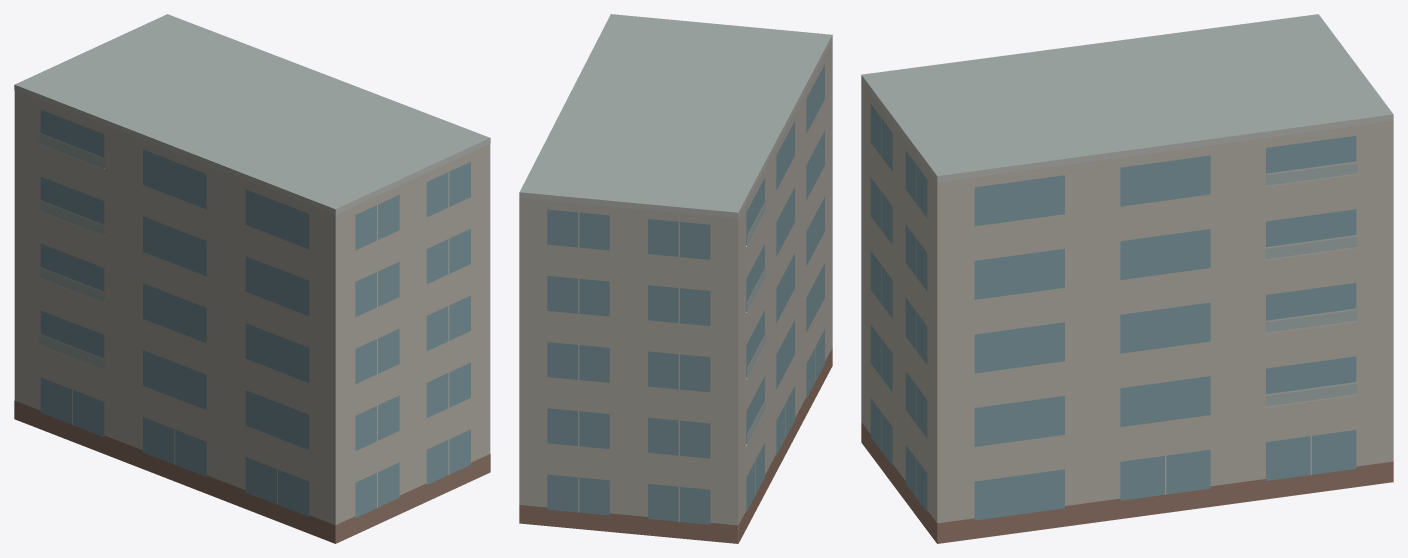
The model's file is survey-upis-32609044.glb.
3 renders of one model, left to right at view 1: azimuth 30°, elevation 25°; view 2: azimuth 150°, elevation 25°; view 3: azimuth 270°, elevation 25°, orthographic. The views are drawn at different scales.
Parts seen in each view (by area): view 1: survey-upis-32609044.tmp; view 2: survey-upis-32609044.tmp; view 3: survey-upis-32609044.tmp.
Part boxes in pixels (x1,y1,x2,y2): survey-upis-32609044.tmp: (14, 14, 490, 543); survey-upis-32609044.tmp: (519, 14, 832, 543); survey-upis-32609044.tmp: (861, 14, 1393, 543).
Bounding box in the file's own units: 13.44 × 14.2 × 18.64.
